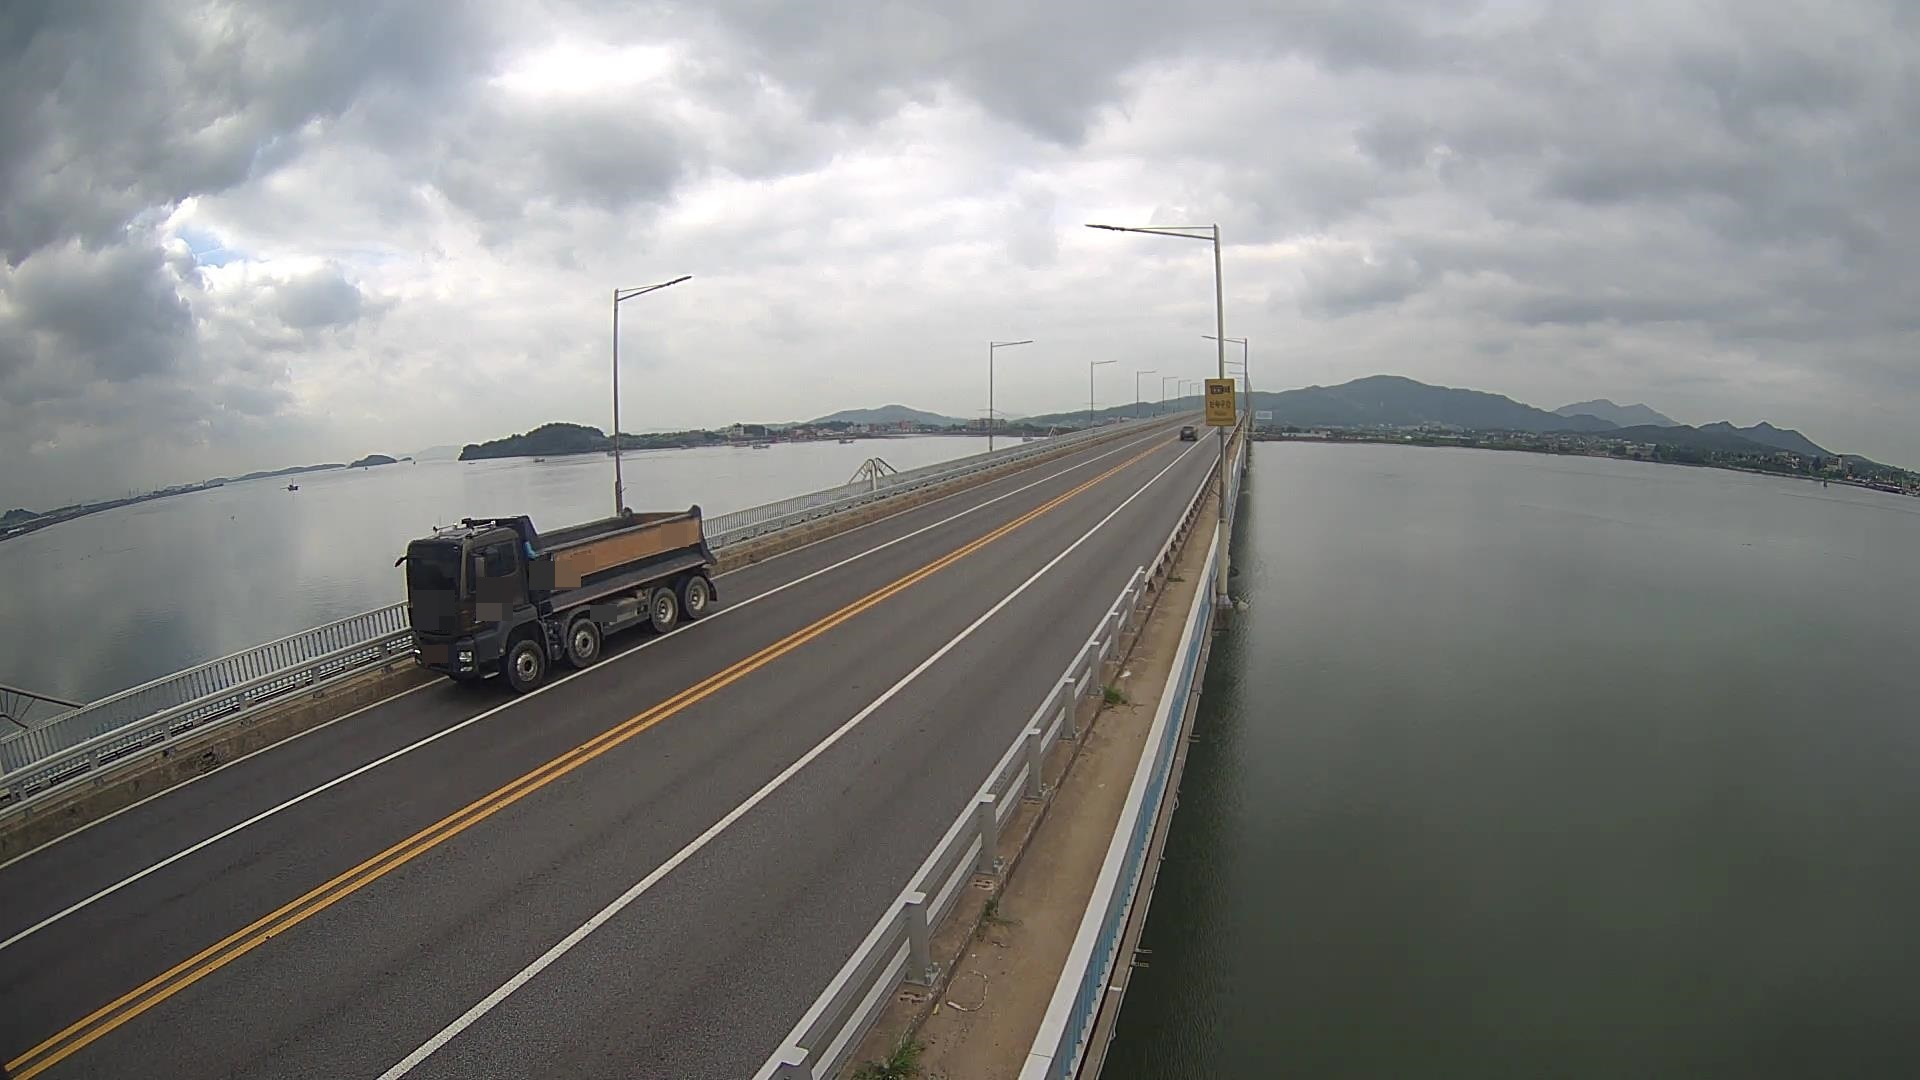정상차량: (394, 504, 718, 694)
